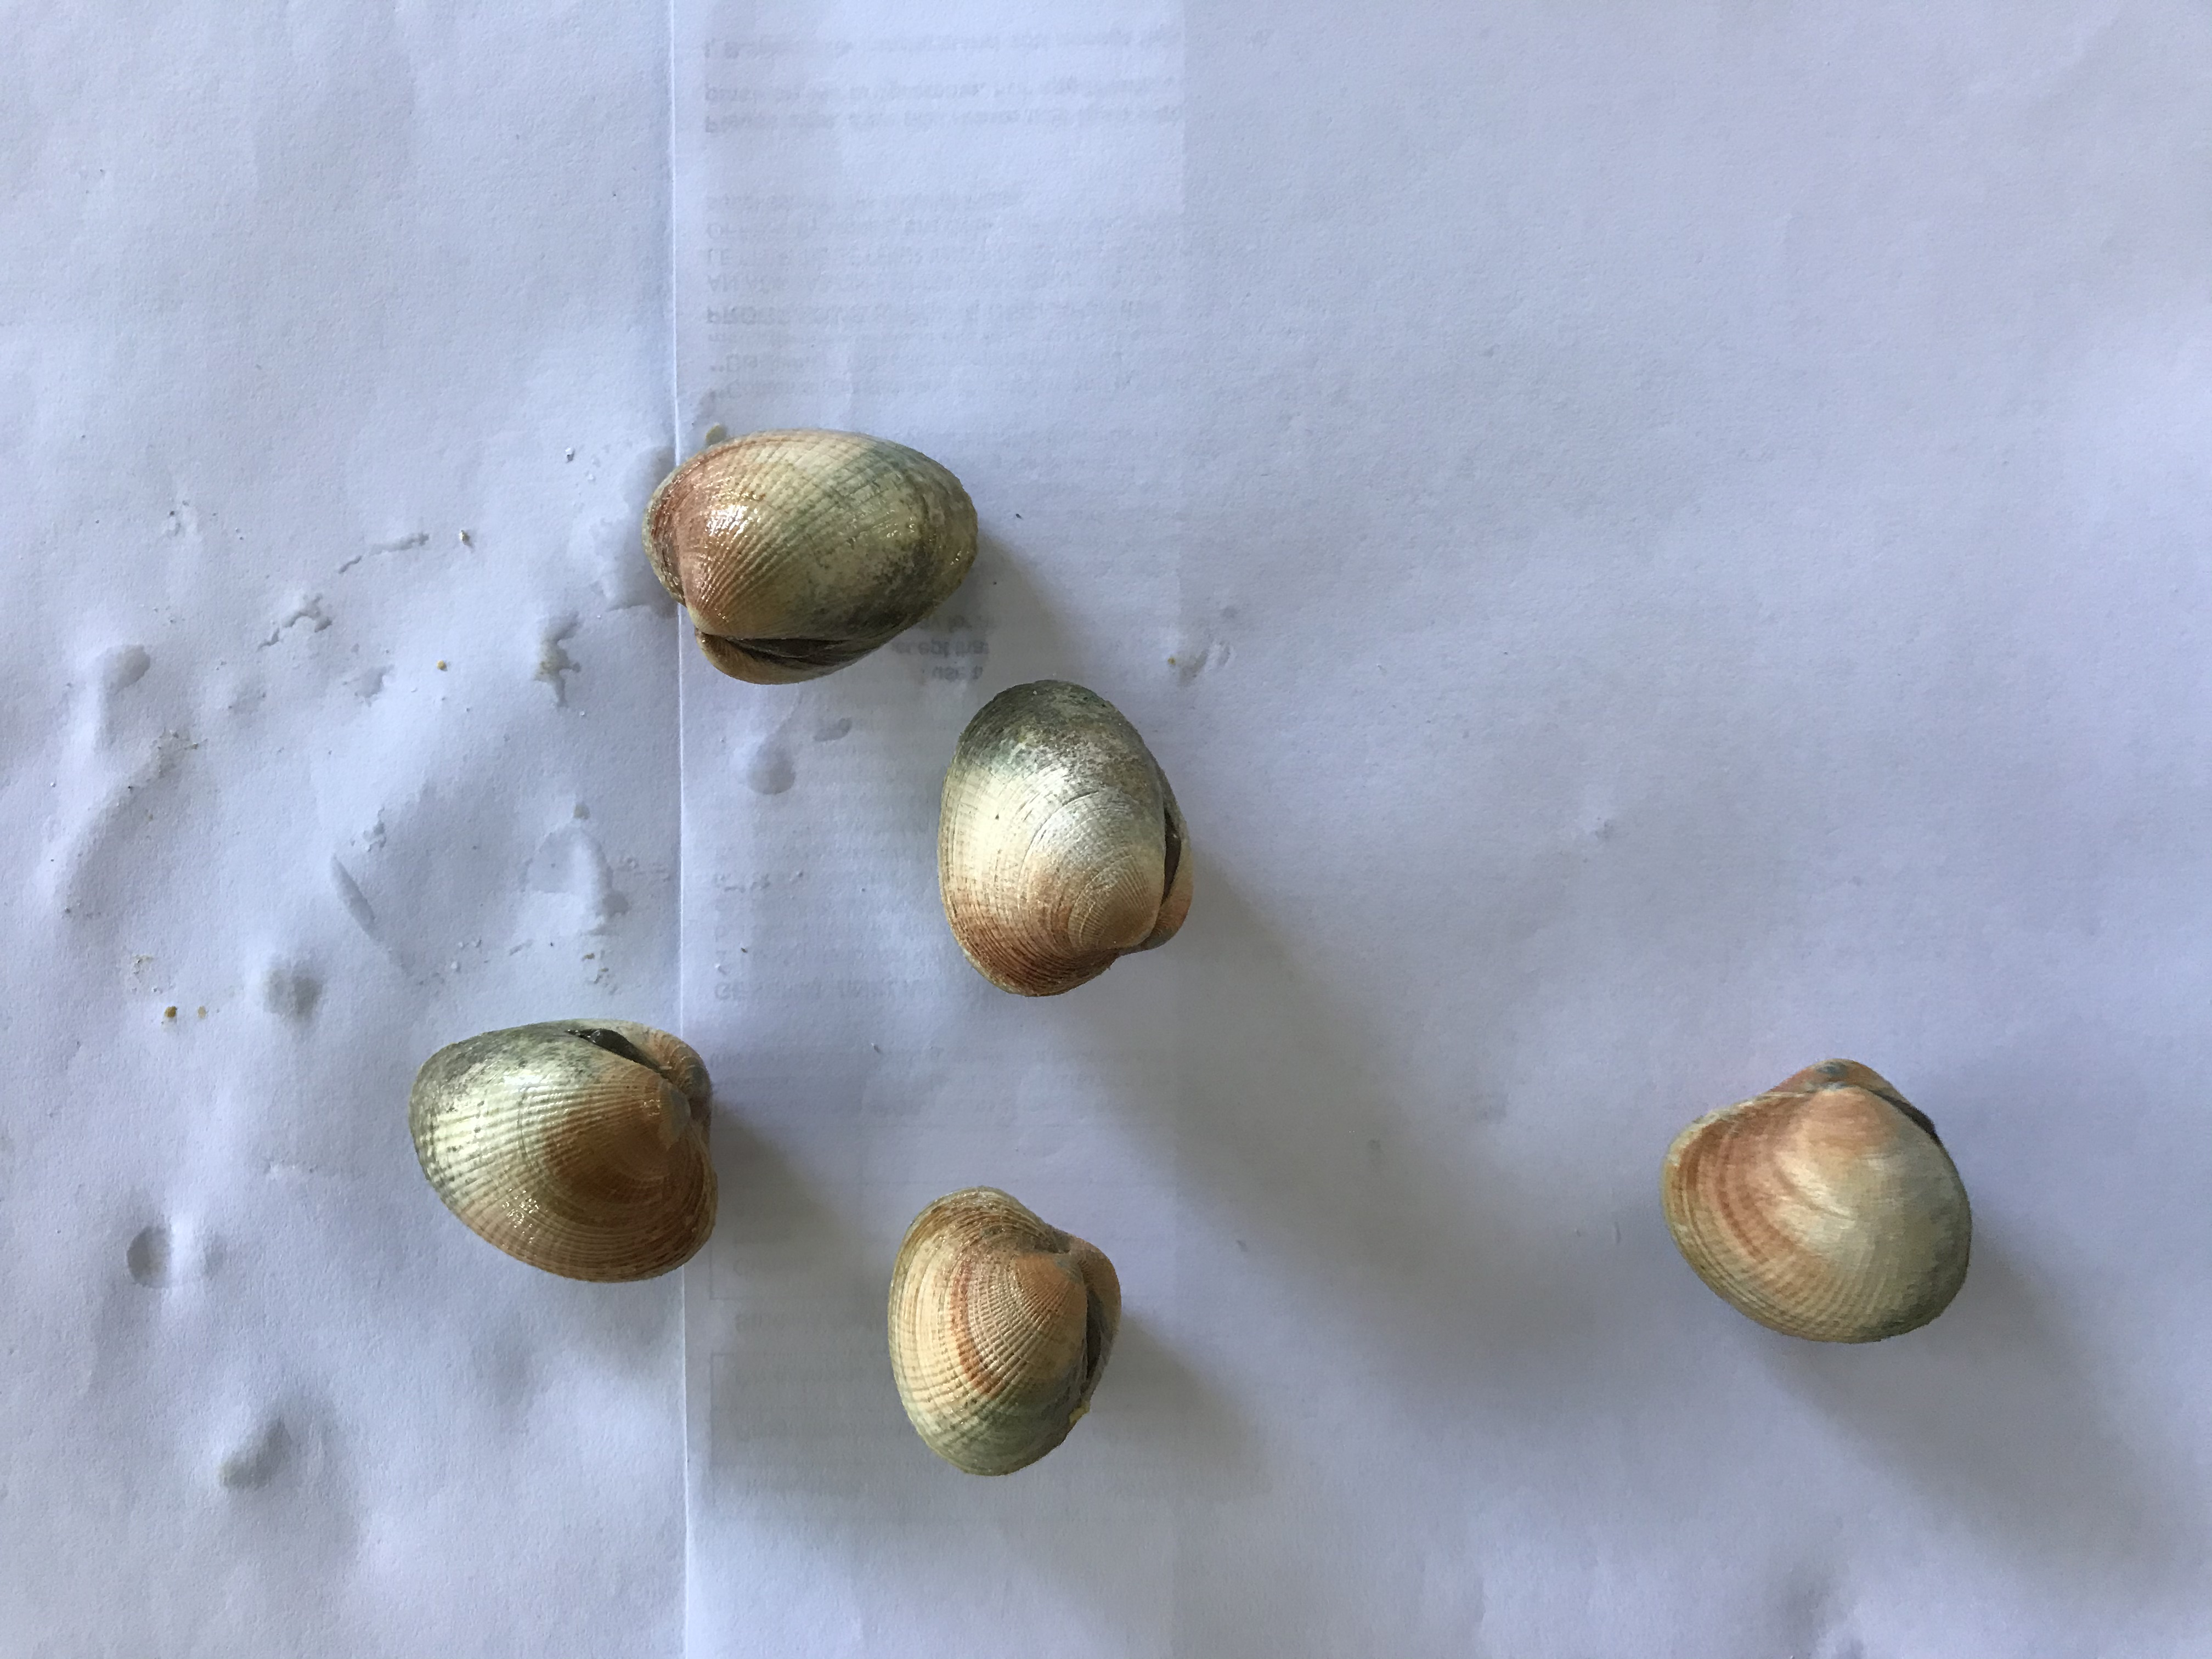cockle: (1651, 1051, 1986, 1344), (632, 427, 986, 688), (401, 1018, 719, 1290), (935, 678, 1197, 999), (881, 1176, 1127, 1483)
